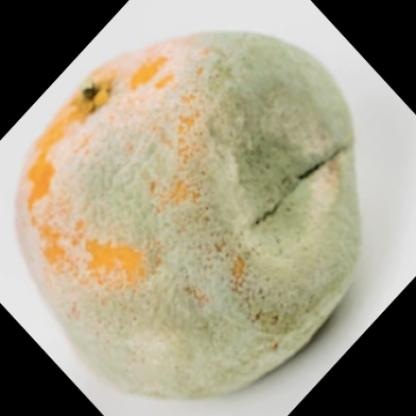rotten: (14, 32, 366, 404)
